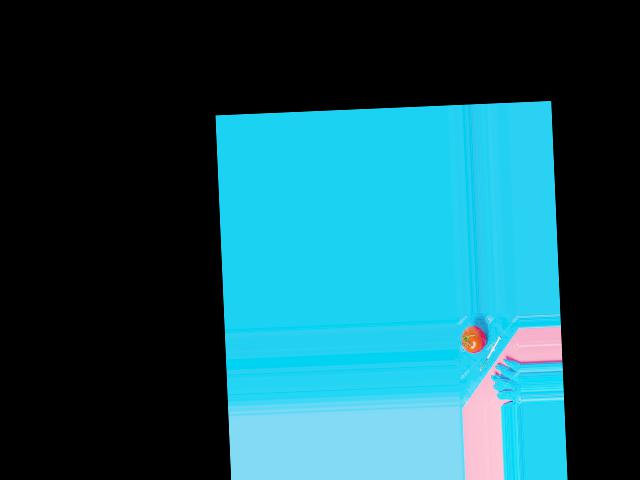tomato: (461, 326, 487, 353)
